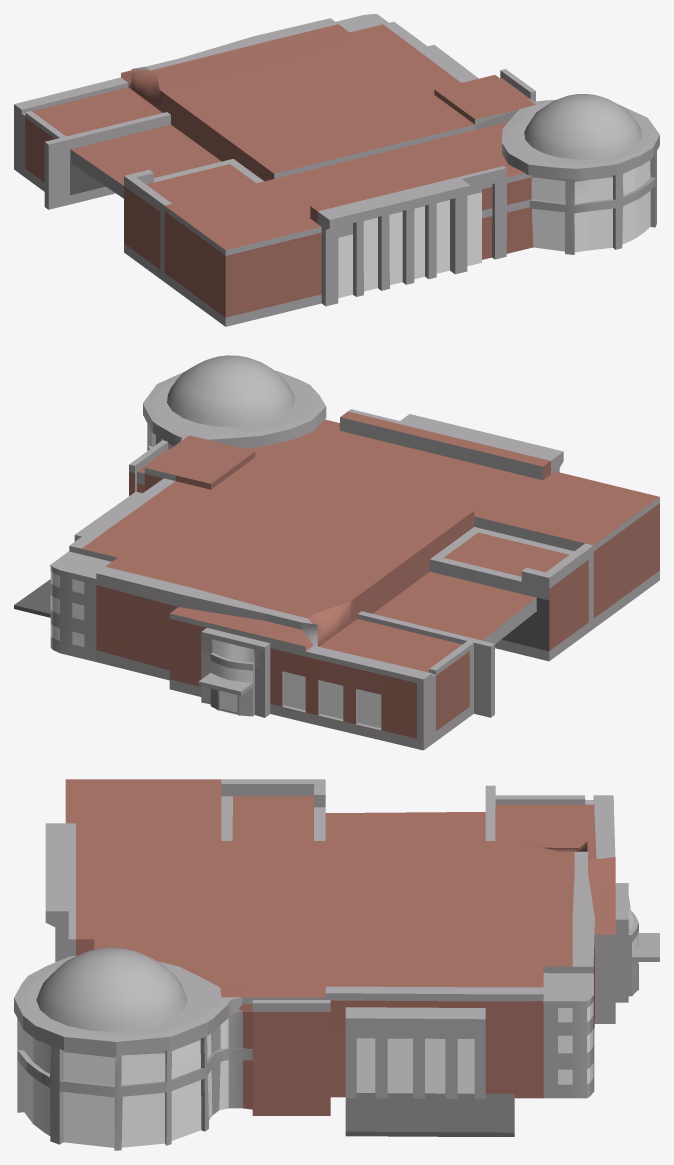
Rendered from Broderick Dining Commons (1).fbx.
The picture shows the model from 3 angles, top to bottom: view 1: azimuth 30°, elevation 25°; view 2: azimuth 150°, elevation 25°; view 3: azimuth 270°, elevation 25°; orthographic projection. The views are drawn at different scales.
Visible parts, largest first — view 1: pCube2; view 2: pCube2; view 3: pCube2.
Boxes of the visible parts, <box> form: pCube2: <box>14,14,659,326</box>; pCube2: <box>14,355,659,750</box>; pCube2: <box>14,779,659,1150</box>.
Bounding box in the file's own units: 321 × 83.16 × 309.
